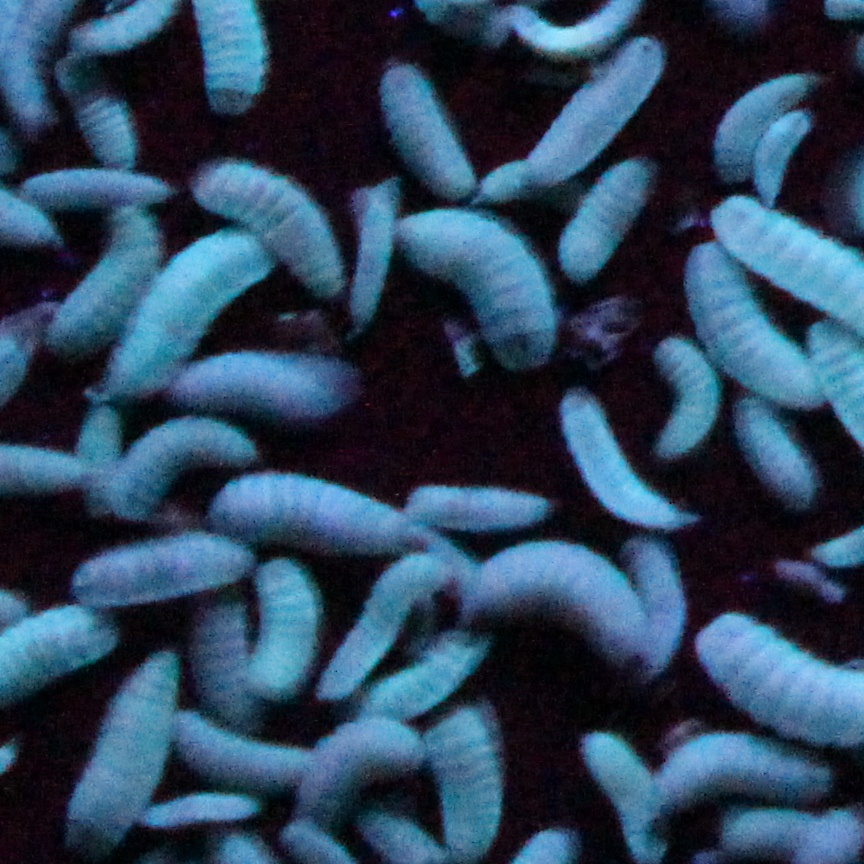larve: (102, 227, 276, 398), (395, 202, 561, 373), (55, 647, 181, 862), (680, 238, 832, 410), (463, 538, 651, 672), (517, 34, 674, 188), (194, 160, 345, 301), (560, 388, 703, 532), (320, 551, 454, 701), (40, 202, 163, 361), (208, 473, 438, 558), (165, 344, 370, 433), (70, 530, 273, 618), (360, 605, 501, 726), (111, 412, 263, 518), (652, 732, 833, 813), (373, 61, 480, 197), (297, 716, 430, 825), (164, 706, 321, 792), (714, 73, 823, 193), (556, 154, 652, 284), (243, 555, 324, 706), (728, 398, 822, 507), (647, 333, 722, 462), (54, 53, 135, 172), (615, 542, 688, 673), (402, 472, 552, 535), (194, 595, 258, 733), (342, 180, 398, 328), (16, 167, 180, 211), (746, 108, 813, 208), (78, 402, 123, 523), (142, 790, 265, 833), (477, 145, 542, 205)
